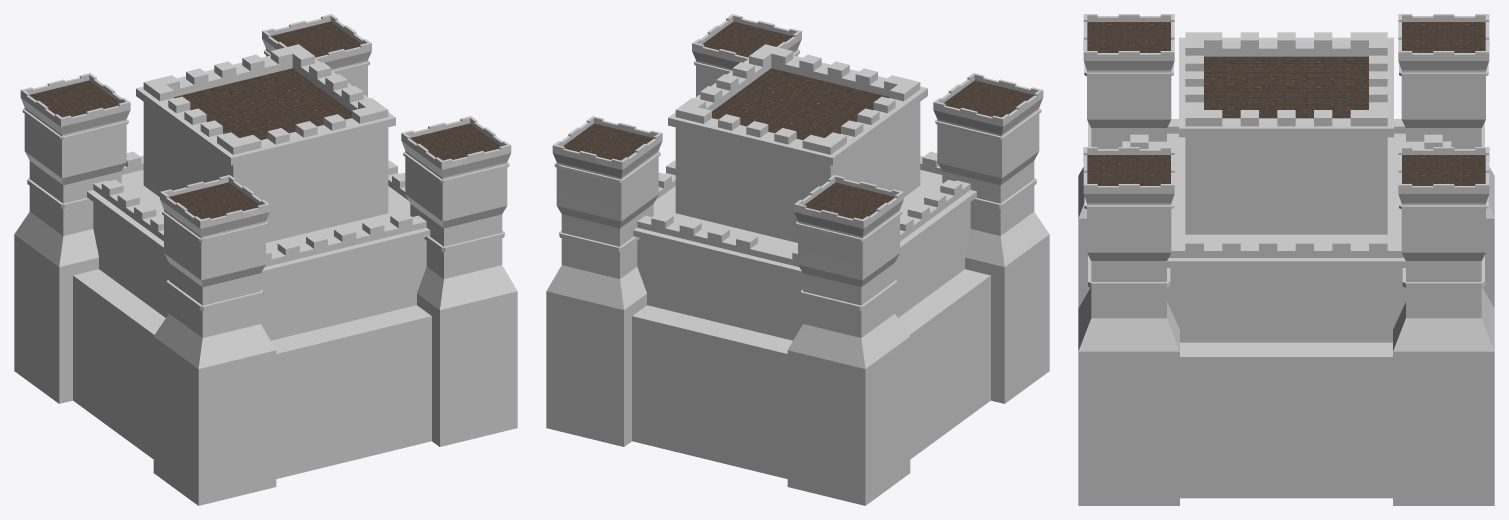
The model's file is MainBuilding.fbx.
The picture shows the model from 3 angles, left to right: view 1: azimuth 30°, elevation 25°; view 2: azimuth 150°, elevation 25°; view 3: azimuth 270°, elevation 25°; orthographic projection. The views are drawn at different scales.
Parts seen in each view (by area): view 1: HlavnaBudova; view 2: HlavnaBudova; view 3: HlavnaBudova.
Part boxes in pixels (box(x1,y1,x2,y2)): HlavnaBudova: box(14, 14, 517, 505); HlavnaBudova: box(546, 14, 1049, 505); HlavnaBudova: box(1078, 14, 1494, 505).
Bounding box in the file's own units: 7409 × 6737 × 7408.
